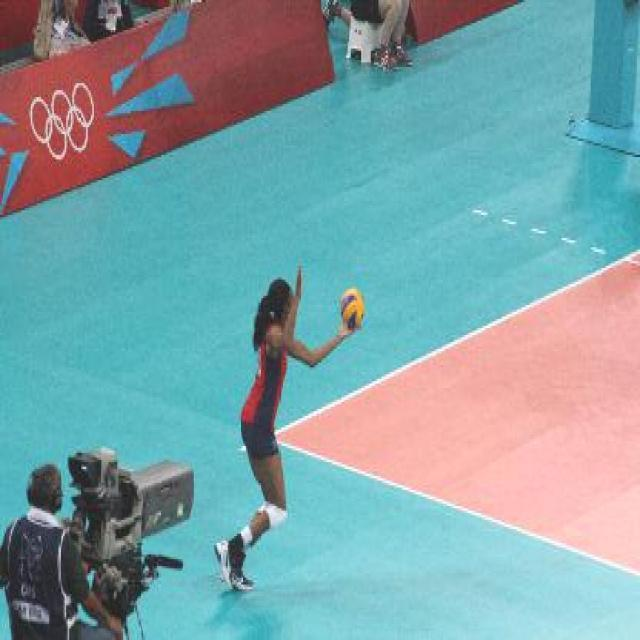volleyball: (340, 288, 364, 331)
